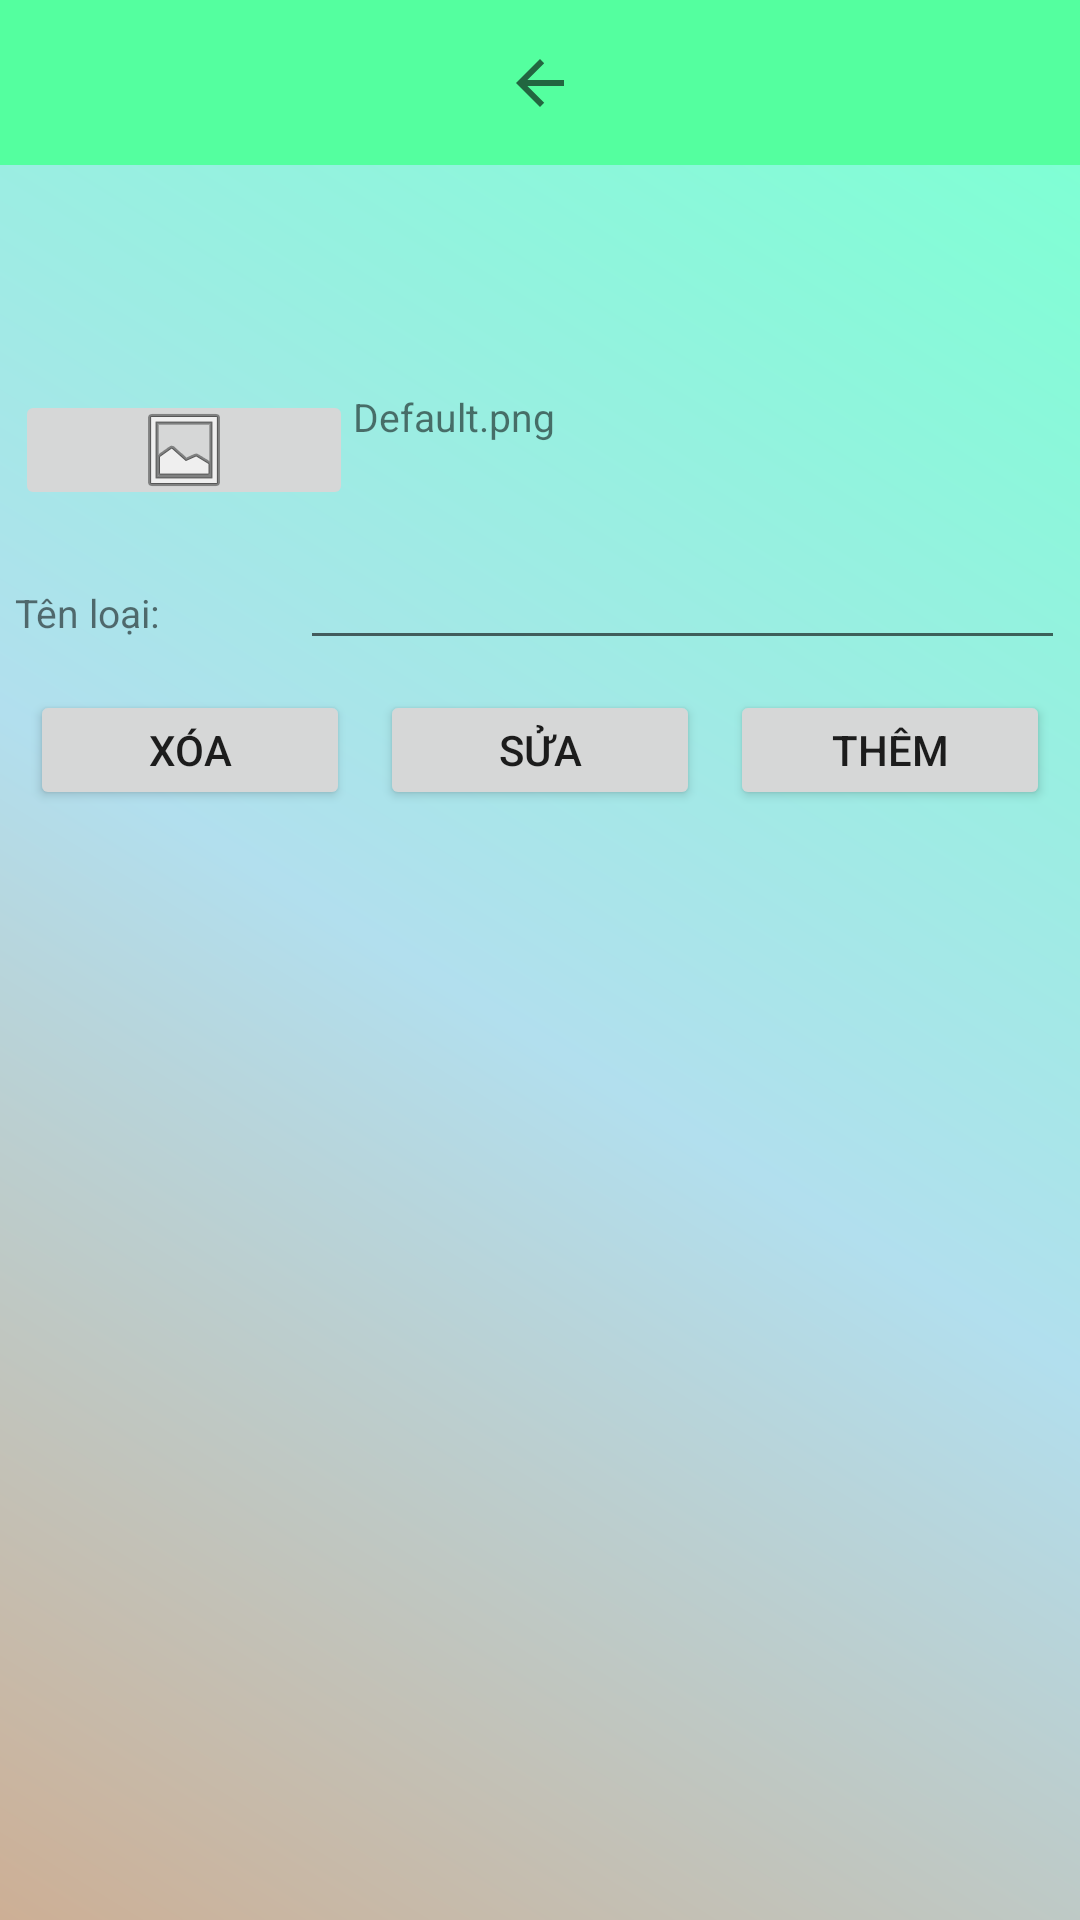

Where to tap for icons on this 1080px×1920px app screen, as [x,y]:
gallery: [184,450]
